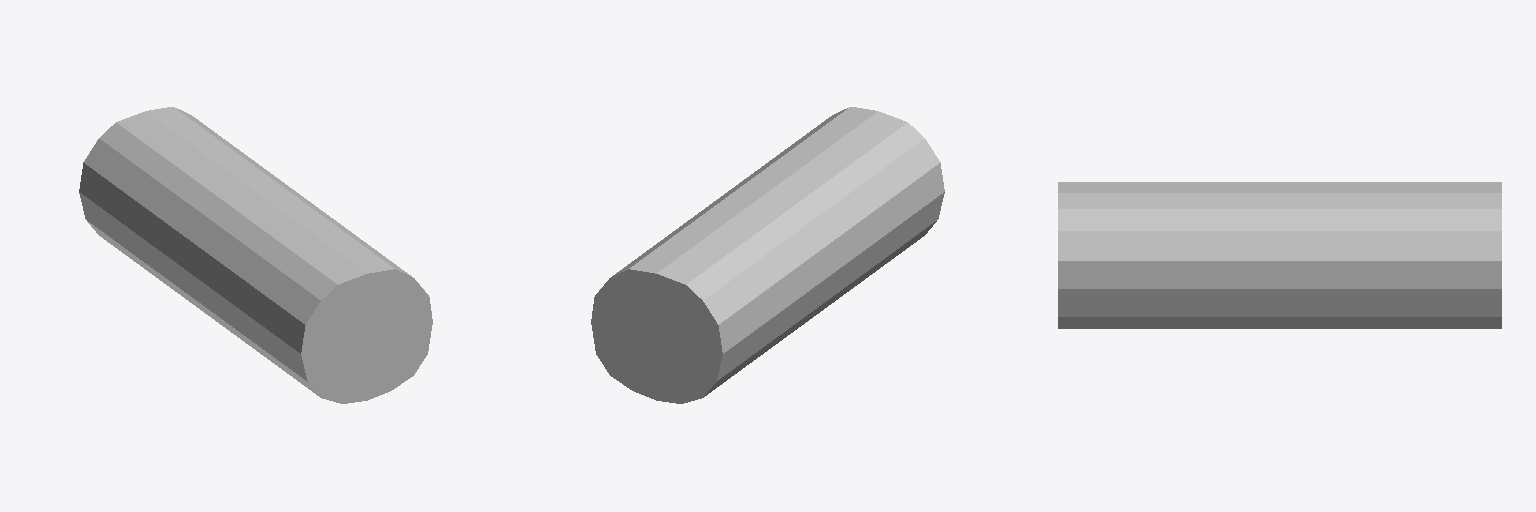
Rendered from Wood Log.obj.
3 renders of one model, left to right at view 1: azimuth 30°, elevation 25°; view 2: azimuth 150°, elevation 25°; view 3: azimuth 270°, elevation 25°, orthographic.
Parts seen in each view (by area): view 1: Cube; view 2: Cube; view 3: Cube.
Part boxes in pixels (x1,y1,x2,y2): Cube: (79, 107, 432, 403); Cube: (591, 107, 944, 403); Cube: (1058, 182, 1501, 328).
Size of the model in its own units: 2.83 by 2.61 by 8.27.